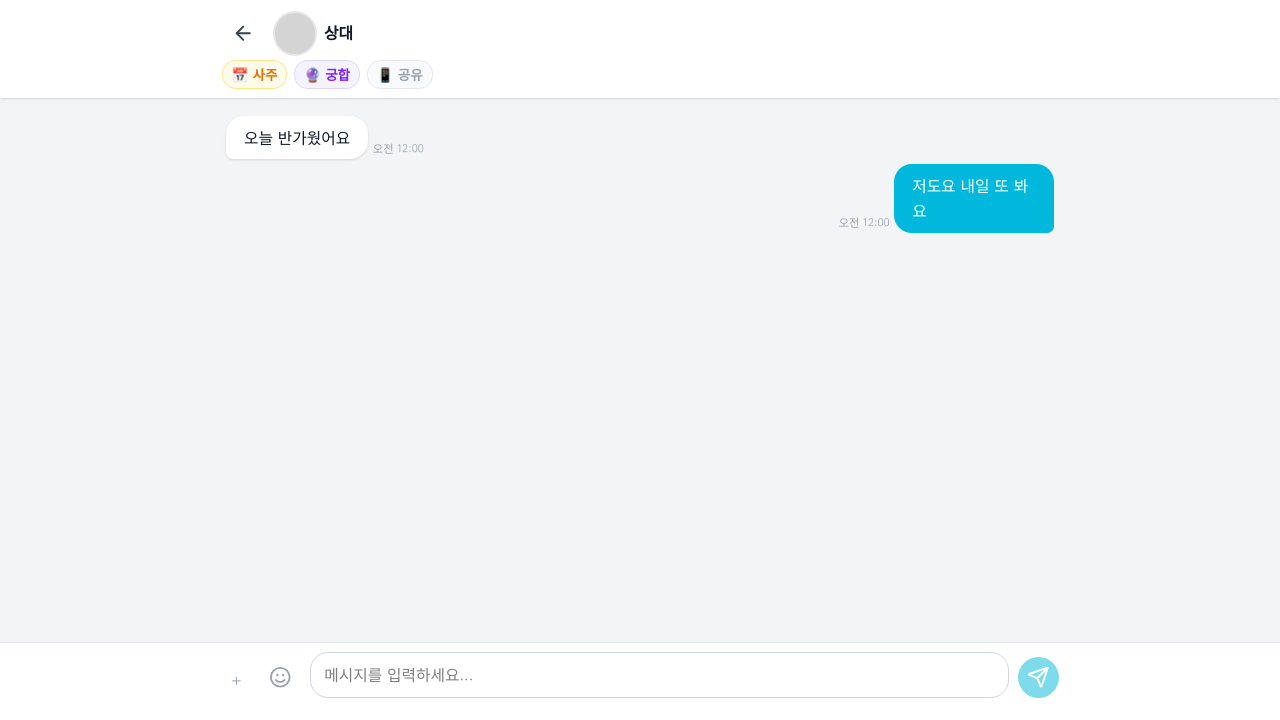
ChatScreen gestures › right-click own message shows 삭제 (모두에게)
Right-click the text "저도요 내일 또 봐요" at (943, 198), box [832,164,1054,233]
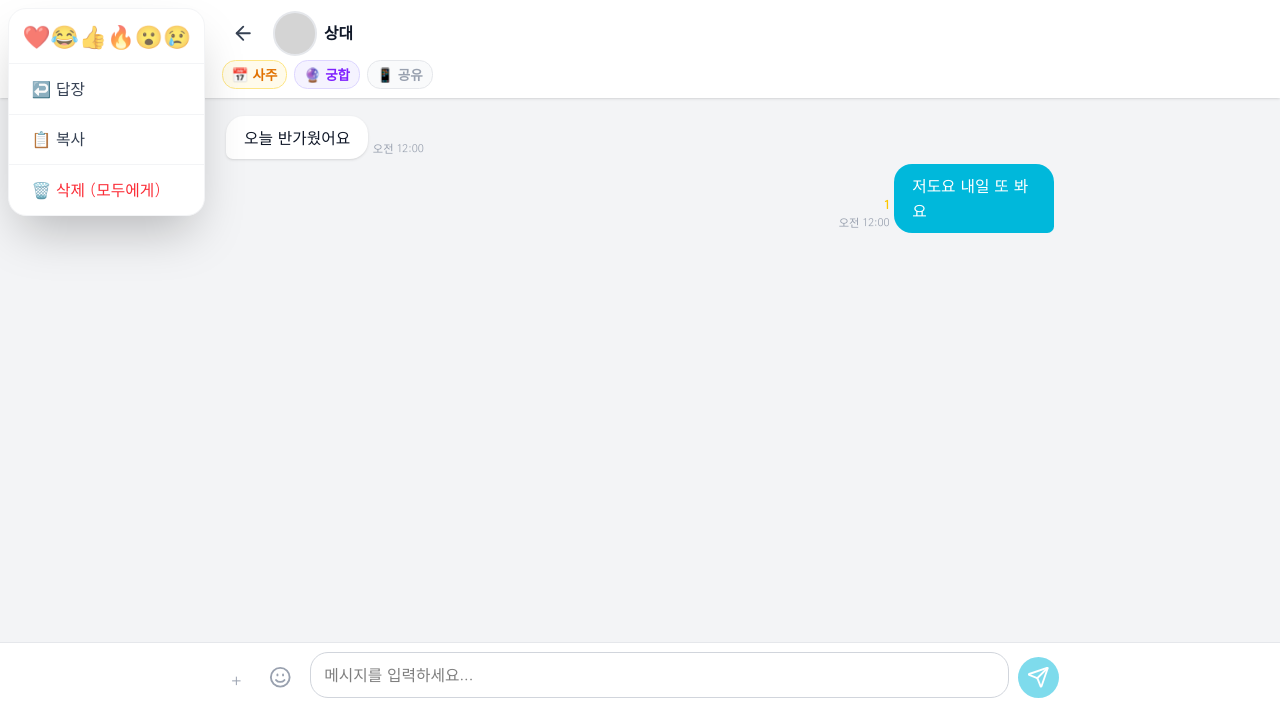
Now the button "🗑️ 삭제 (모두에게)" is shown, box [9,164,204,214]
Now the button "↩️ 답장" is shown, box [9,64,204,114]
